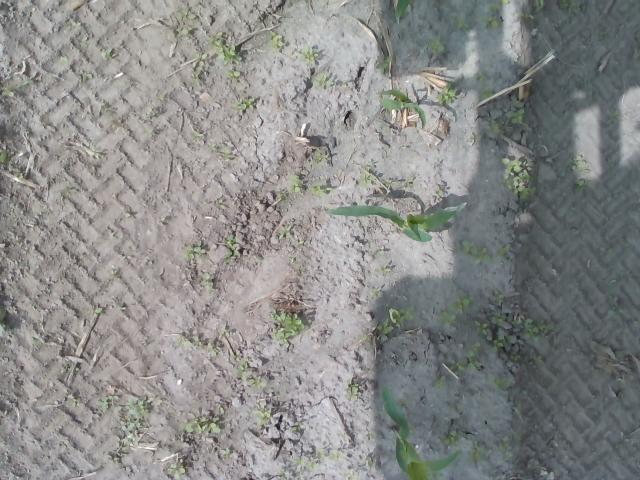Maize: (380, 385, 462, 480), (322, 204, 468, 248), (374, 86, 425, 129), (394, 0, 411, 20)
Weeds: (476, 312, 557, 353), (359, 305, 416, 347), (112, 397, 147, 461), (458, 237, 513, 267), (502, 156, 538, 198), (436, 294, 474, 330), (450, 340, 488, 372), (270, 311, 306, 343), (232, 360, 268, 391), (210, 32, 242, 63), (169, 6, 197, 41), (180, 412, 220, 436), (276, 223, 304, 248), (191, 51, 208, 90), (506, 97, 526, 124), (568, 158, 586, 188), (231, 95, 257, 114), (293, 455, 322, 472), (524, 0, 546, 21), (224, 240, 242, 264), (422, 38, 446, 56), (434, 87, 456, 106), (358, 162, 374, 188), (478, 12, 500, 30), (268, 28, 285, 50), (301, 44, 319, 63), (310, 70, 330, 87), (437, 429, 458, 445), (316, 448, 342, 460), (488, 288, 506, 305), (168, 463, 186, 480), (481, 118, 500, 134), (182, 244, 200, 260), (346, 382, 360, 402), (201, 273, 214, 294), (478, 87, 496, 102), (466, 450, 482, 466), (492, 378, 512, 390), (433, 375, 449, 390), (0, 307, 8, 337), (314, 152, 328, 169), (0, 84, 17, 98), (206, 338, 219, 356), (286, 174, 300, 190), (258, 409, 271, 426), (374, 263, 394, 274), (529, 354, 544, 368), (498, 434, 510, 451), (220, 144, 232, 161), (452, 16, 466, 30), (368, 288, 384, 300), (608, 306, 625, 317), (214, 403, 226, 417), (0, 146, 9, 164), (66, 20, 82, 30), (215, 198, 228, 210), (98, 396, 112, 407), (277, 190, 291, 201), (224, 69, 240, 78), (102, 48, 114, 60), (176, 334, 186, 346), (380, 57, 389, 70), (219, 447, 231, 456), (59, 54, 68, 66), (497, 0, 512, 7), (311, 184, 321, 194), (94, 306, 104, 316), (79, 38, 89, 48), (70, 397, 80, 407), (382, 178, 392, 188), (288, 256, 296, 265), (254, 256, 262, 264)
